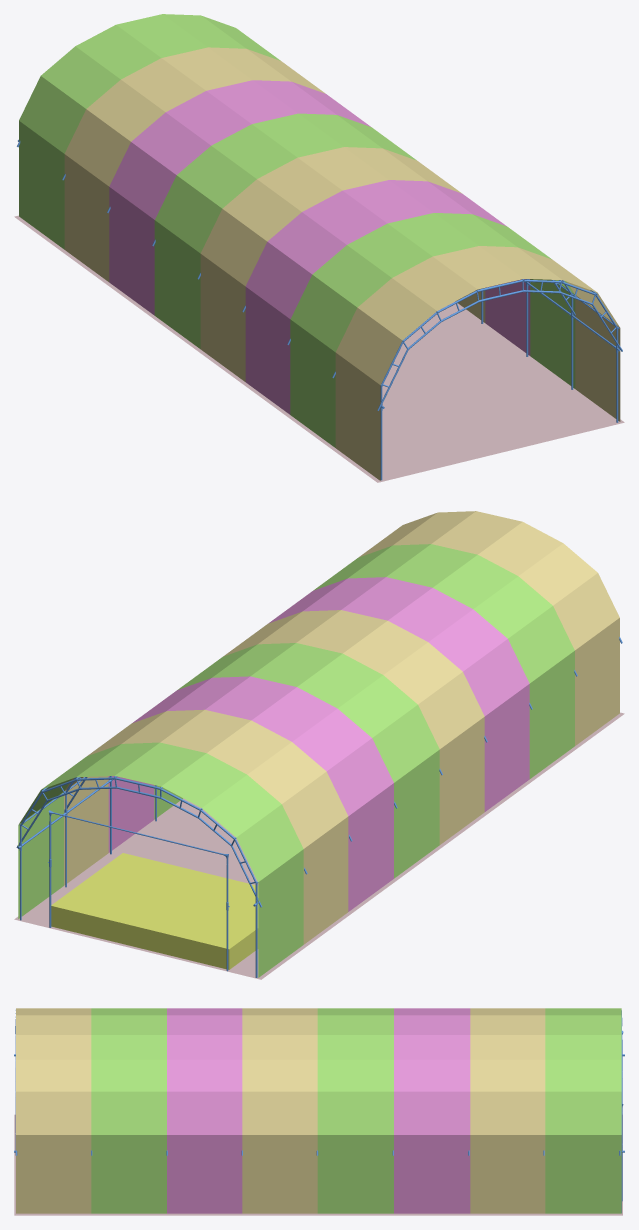
Rendered from env.glb.
3 views of the same model, one above another, from view 1: azimuth 30°, elevation 25°; view 2: azimuth 150°, elevation 25°; view 3: azimuth 270°, elevation 25° (orthographic). The views are drawn at different scales.
Visible parts, largest first — view 1: Plane.002, 布.001, 布.002, 布.003, 布.004, 布.005, 布, 布.006, 布.007, Cylinder.005, Cylinder.006; view 2: 布, 布.007, 布.006, 布.005, 布.002, Cube, 布.003, 布.004, 布.001, Plane.002, Cylinder.173, Cylinder.174; view 3: 布.006, 布, 布.005, 布.007, 布.002, 布.004, 布.001, 布.003, Plane.002.
Boxes of the visible parts, x1,y1,x2,y2 form: Plane.002: (14,215,624,482); 布.001: (335,246,620,480); 布.002: (290,213,575,447); 布.003: (245,180,530,414); 布.004: (200,147,485,381); 布.005: (154,113,416,348); 布: (19,14,280,249); 布.006: (109,80,370,315); 布.007: (64,47,325,281); Cylinder.005: (377,290,622,410); Cylinder.006: (381,279,617,384); 布: (18,742,303,977); 布.007: (64,709,348,944); 布.006: (108,676,393,911); 布.005: (154,643,439,878); 布.002: (313,544,574,778); Cube: (51,853,258,969); 布.003: (268,577,529,811); 布.004: (223,610,484,844); 布.001: (358,511,619,745); Plane.002: (14,712,624,979); Cylinder.173: (16,786,262,907); Cylinder.174: (20,777,256,883); 布.006: (394,1008,470,1213); 布: (545,1008,621,1213); 布.005: (317,1008,393,1213); 布.007: (470,1008,545,1213); 布.002: (91,1008,166,1213); 布.004: (242,1008,317,1213); 布.001: (16,1008,91,1213); 布.003: (167,1008,242,1213); Plane.002: (14,1114,622,1215).
Size of the model in its own units: 17.6 by 11.44 by 44.97.
